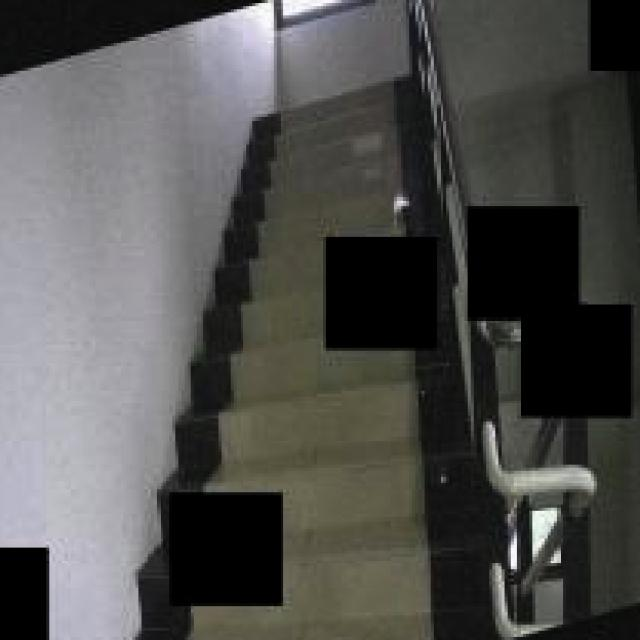upstair: (256, 96, 432, 232)
